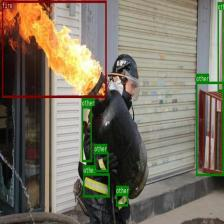fire: (1, 0, 106, 97)
